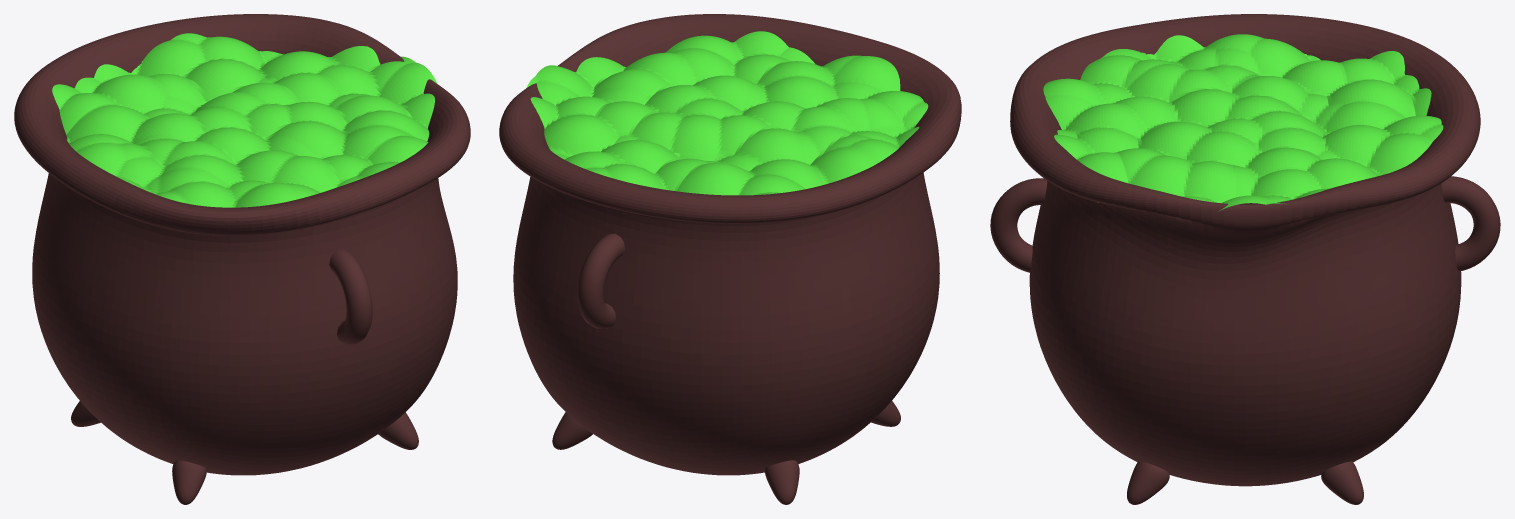
Rendered from cauldron.fbx.
The picture shows the model from 3 angles, left to right: view 1: azimuth 30°, elevation 25°; view 2: azimuth 150°, elevation 25°; view 3: azimuth 270°, elevation 25°; orthographic projection. The views are drawn at different scales.
Parts seen in each view (by area): view 1: cauldron, Plane, toarte, picioruse; view 2: cauldron, Plane, toarte, picioruse; view 3: cauldron, Plane, toarte, picioruse.
Part boxes in pixels (x1,y1,x2,y2): cauldron: (14,14,470,475); Plane: (52,33,436,207); toarte: (329,249,372,344); picioruse: (71,401,418,504); cauldron: (499,14,961,475); Plane: (526,31,928,195); toarte: (577,233,624,328); picioruse: (552,401,900,504); cauldron: (1010,14,1480,486); Plane: (1043,34,1443,211); toarte: (990,176,1500,272); picioruse: (1127,461,1363,504).
Bounding box in the file's own units: 165 × 145 × 187.
